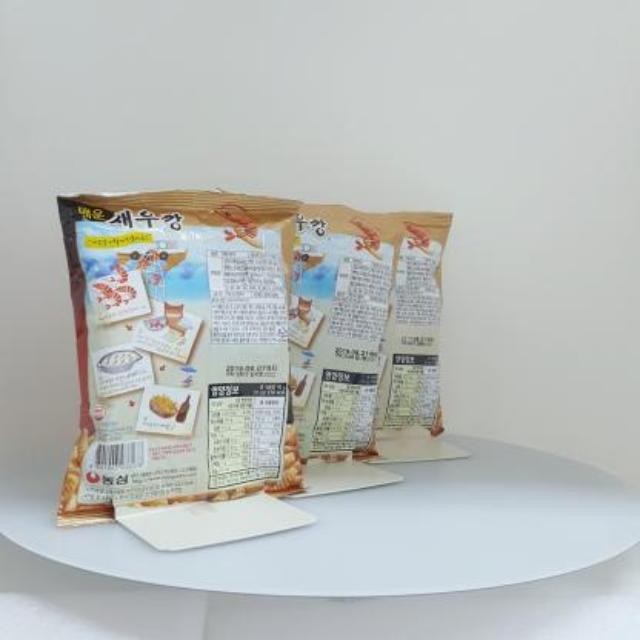snack_bag: (51, 177, 473, 533)
